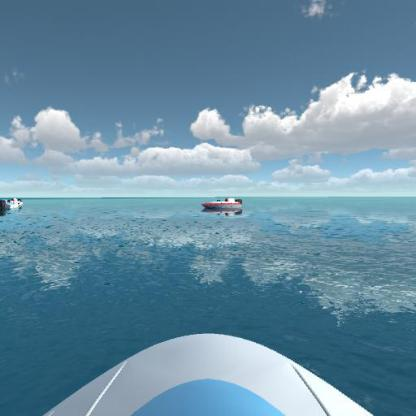usv1: (0, 196, 18, 215)
usv3: (200, 194, 245, 218), (9, 192, 26, 209)
